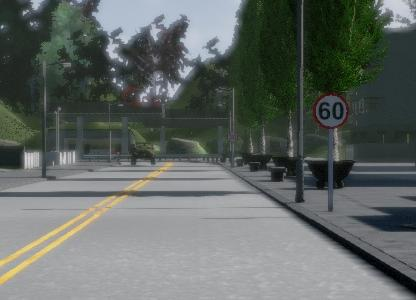Speed_60: (313, 91, 348, 131)
